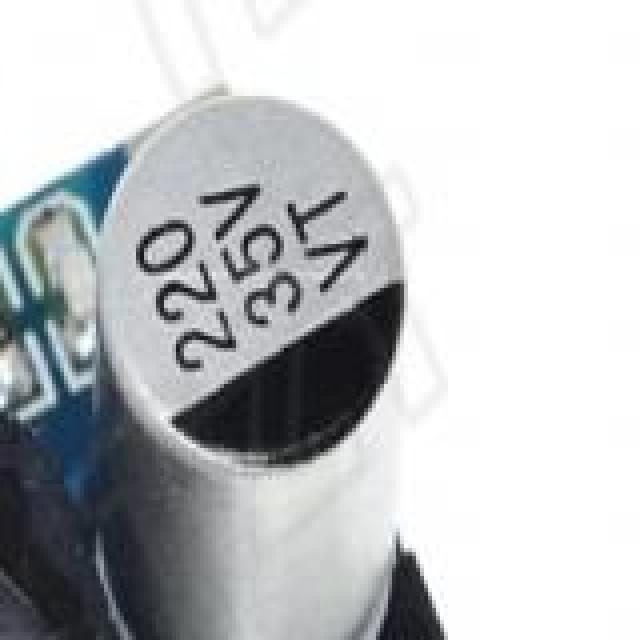capacitor: (47, 32, 495, 640)
inductor: (0, 378, 98, 640)
potentiometer: (0, 299, 14, 370)
